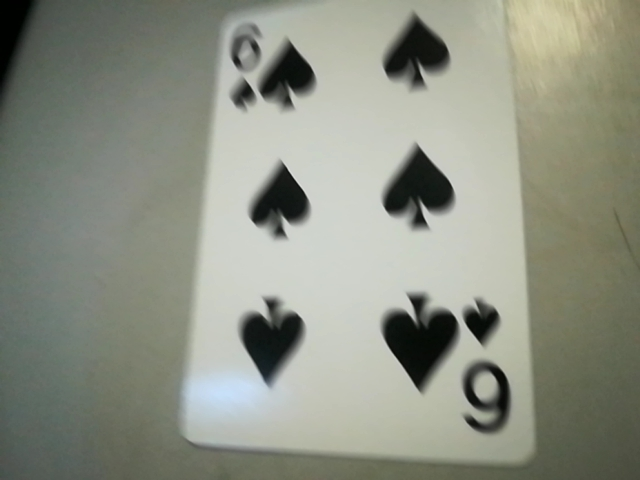ht 6: (449, 289, 526, 453)
